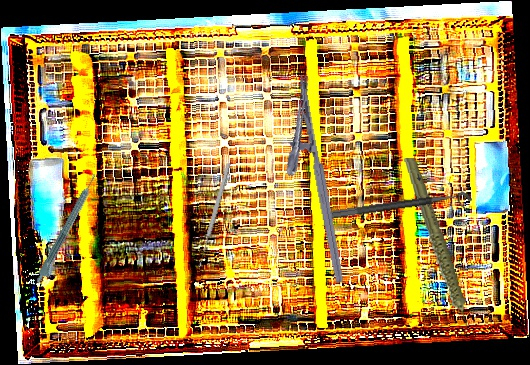Fixation Ring: (329, 190, 474, 231)
Handpiece: (403, 154, 470, 339), (33, 172, 104, 288)
Needle Holder: (270, 73, 345, 289)
Surgical Spoon: (196, 162, 232, 268)
